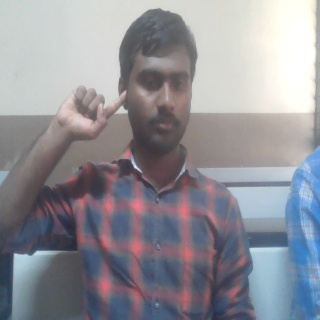Deaf: (52, 84, 128, 144)
Face: (116, 5, 199, 159)
